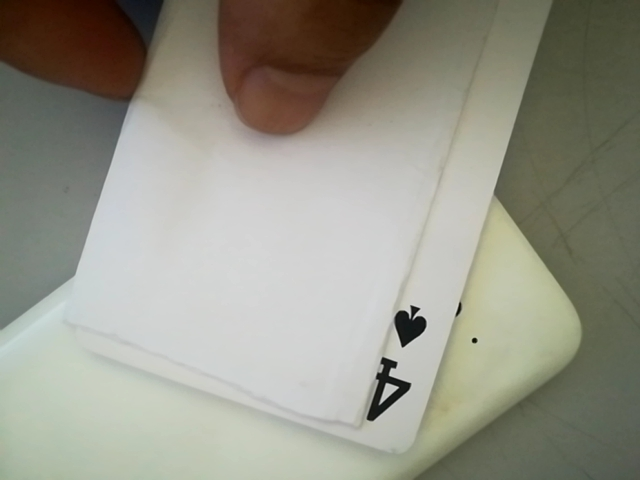ht 4: (348, 291, 441, 435)
